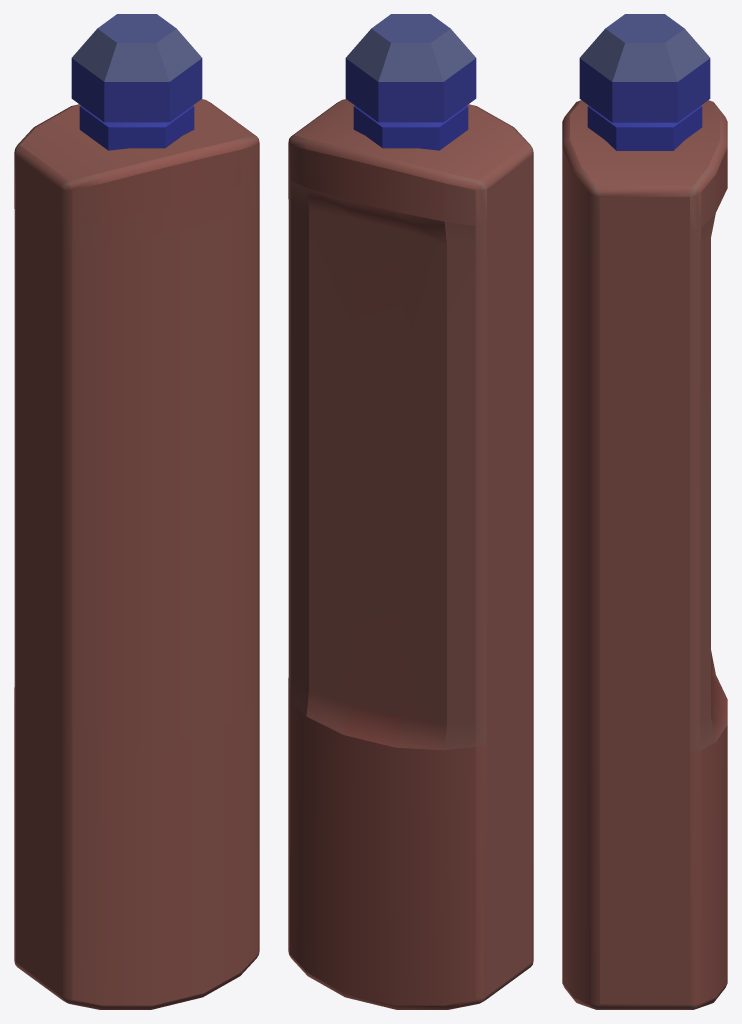
File: SpoolCradleControllerMesh_01.fbx
The picture shows the model from 3 angles, left to right: view 1: azimuth 30°, elevation 25°; view 2: azimuth 150°, elevation 25°; view 3: azimuth 270°, elevation 25°; orthographic projection.
Visible parts, largest first — view 1: SpoolCradleControllerMesh_01; view 2: SpoolCradleControllerMesh_01; view 3: SpoolCradleControllerMesh_01.
Part boxes in pixels (bbox=[...]): SpoolCradleControllerMesh_01: bbox=[14, 14, 259, 1009]; SpoolCradleControllerMesh_01: bbox=[288, 14, 533, 1009]; SpoolCradleControllerMesh_01: bbox=[562, 14, 727, 1009].
Bounding box in the file's own units: 4.28 × 19.65 × 3.1.
